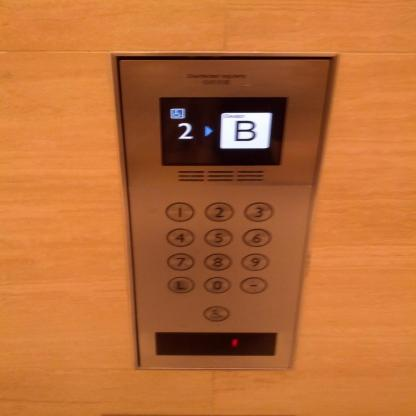-: (239, 276, 268, 294)
0: (203, 277, 231, 293)
1: (165, 201, 194, 222)
2: (204, 202, 233, 222)
3: (242, 202, 272, 222)
4: (166, 228, 194, 247)
5: (203, 228, 232, 247)
6: (241, 228, 271, 247)
7: (166, 252, 195, 271)
8: (203, 252, 233, 271)
9: (240, 253, 270, 271)
CH: (203, 306, 230, 322)
L: (167, 276, 195, 294)
led: (158, 97, 288, 166), (154, 332, 278, 356)
